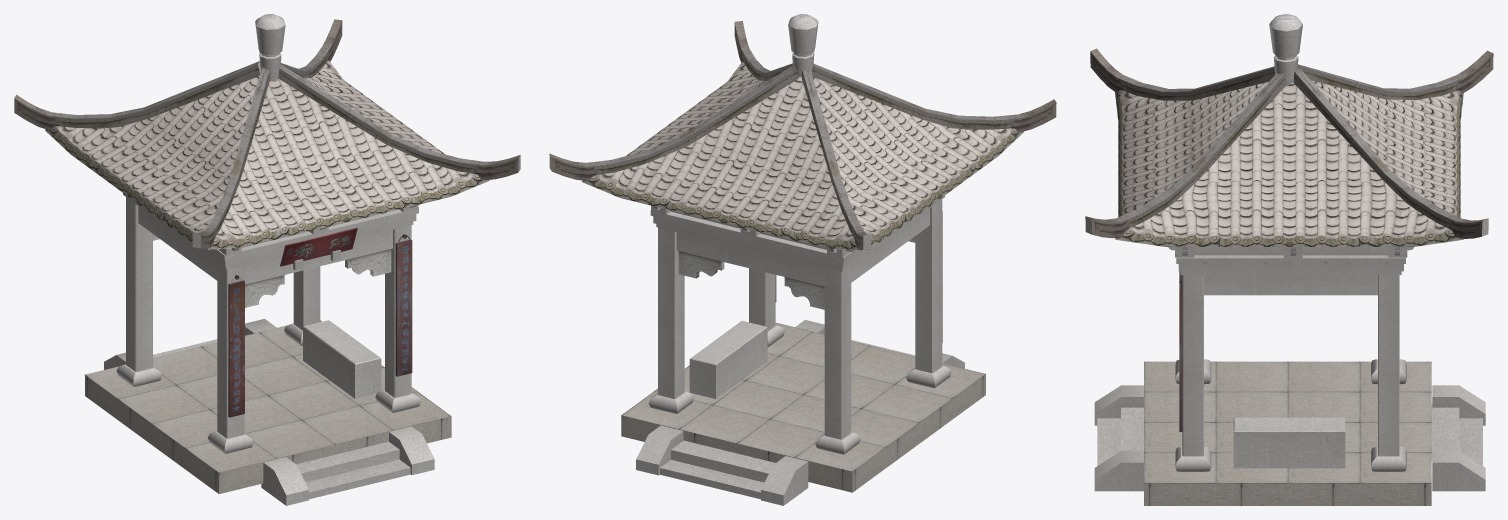
The model's file is Building_Beilang.FBX.
3 views of the same model, side by side, from view 1: azimuth 30°, elevation 25°; view 2: azimuth 150°, elevation 25°; view 3: azimuth 270°, elevation 25° (orthographic). The views are drawn at different scales.
Visible parts, largest first — view 1: Building_Beilang; view 2: Building_Beilang; view 3: Building_Beilang.
Part boxes in pixels (bbox=[...]): Building_Beilang: bbox=[14, 14, 520, 505]; Building_Beilang: bbox=[549, 14, 1056, 505]; Building_Beilang: bbox=[1085, 14, 1493, 505].
Size of the model in its own units: 567 by 665 by 567.
